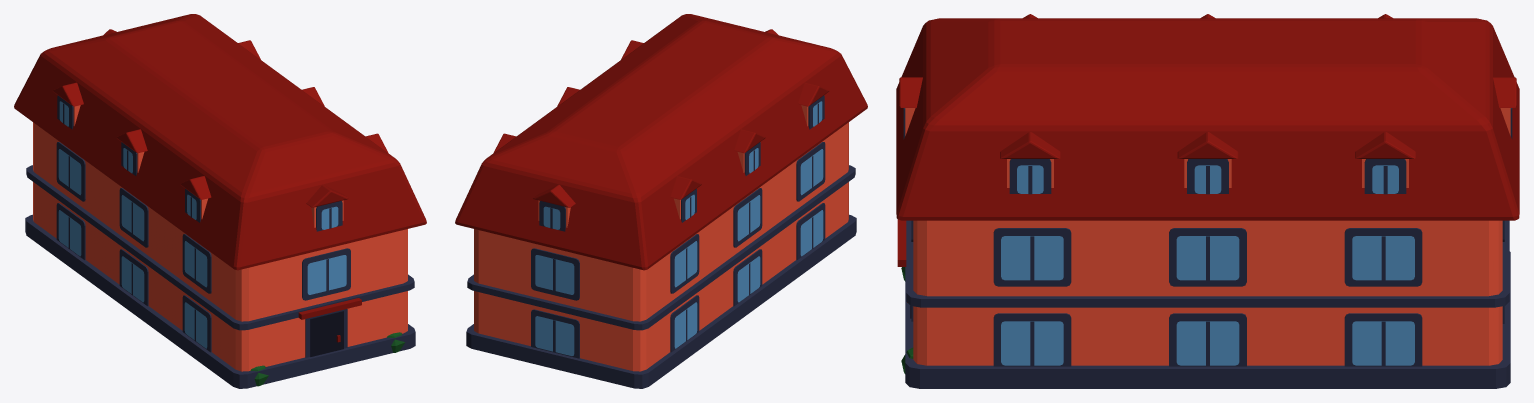
The model's file is house-1x2-2f-mansard-c.glb.
3 renders of one model, left to right at view 1: azimuth 30°, elevation 25°; view 2: azimuth 150°, elevation 25°; view 3: azimuth 270°, elevation 25°, orthographic. The views are drawn at different scales.
Parts seen in each view (by area): view 1: house-1x2-2f-mansard-c; view 2: house-1x2-2f-mansard-c; view 3: house-1x2-2f-mansard-c.
Part boxes in pixels (bbox=[...]): house-1x2-2f-mansard-c: bbox=[14, 14, 426, 388]; house-1x2-2f-mansard-c: bbox=[455, 14, 867, 388]; house-1x2-2f-mansard-c: bbox=[896, 14, 1519, 388].
Bounding box in the file's own units: 0.9876 × 1 × 1.99.
Materials: 1 (1 with a texture image).
